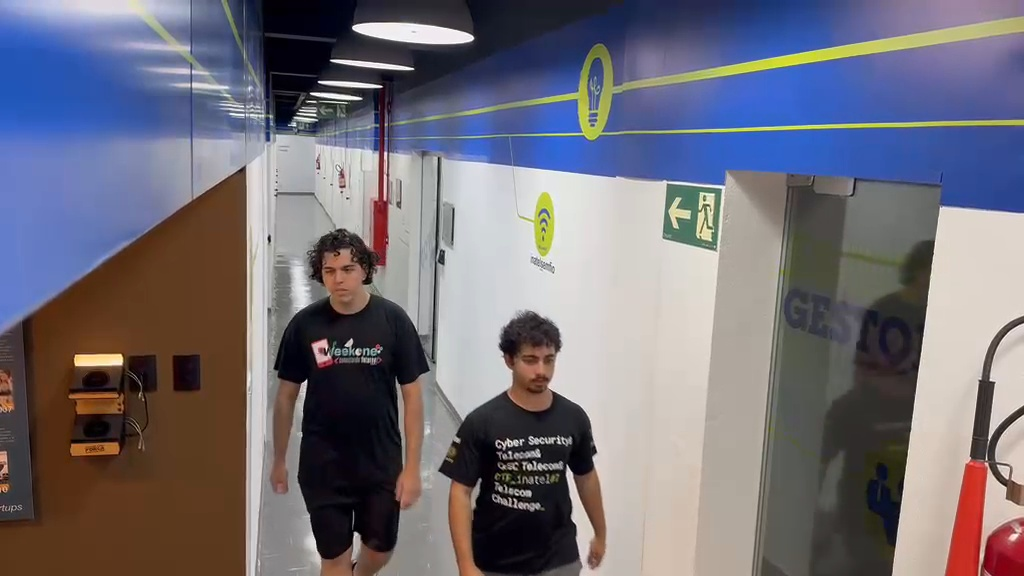person: (268, 228, 430, 572), (436, 310, 607, 574)
